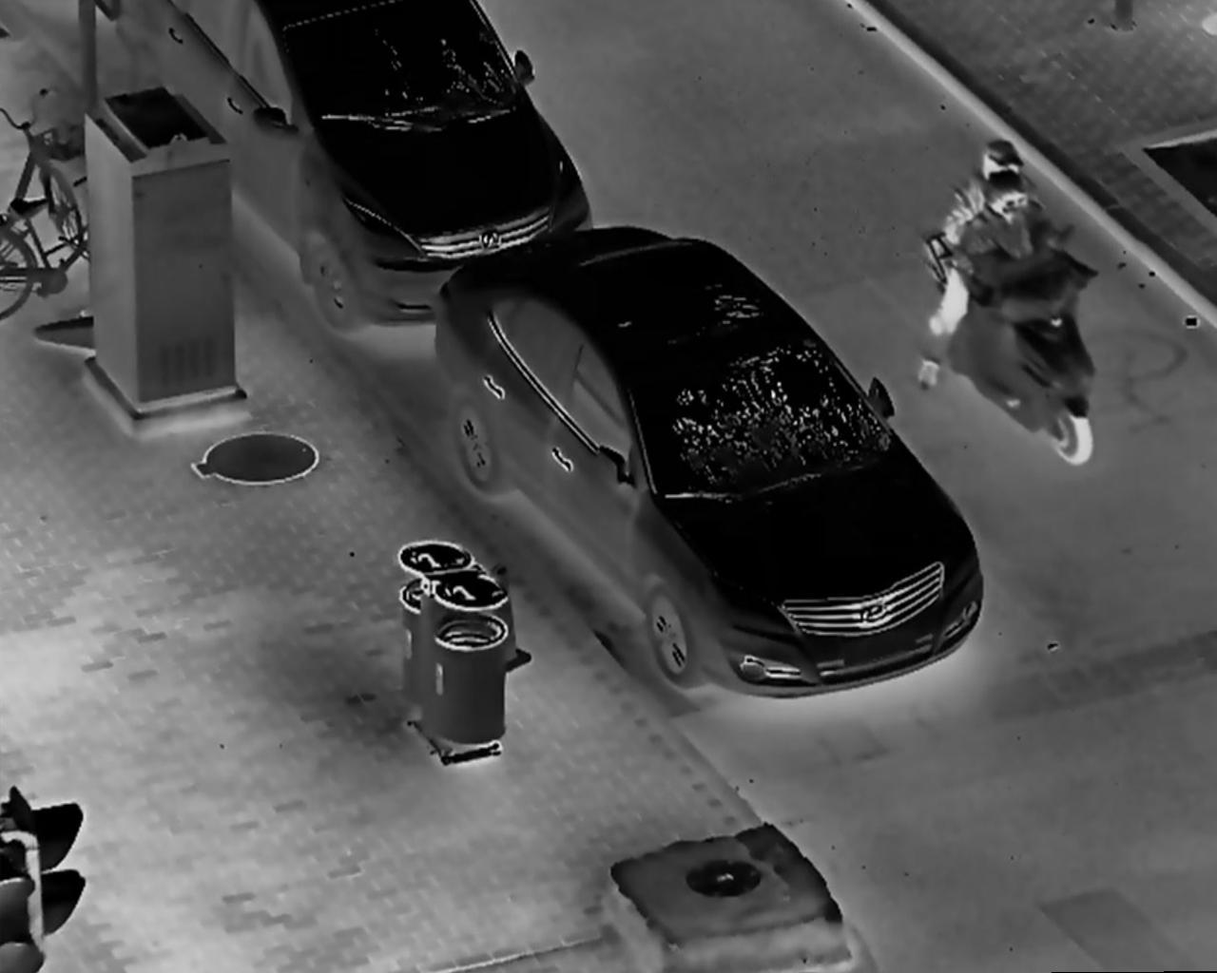person: (959, 181, 1092, 403), (918, 138, 1035, 386)
